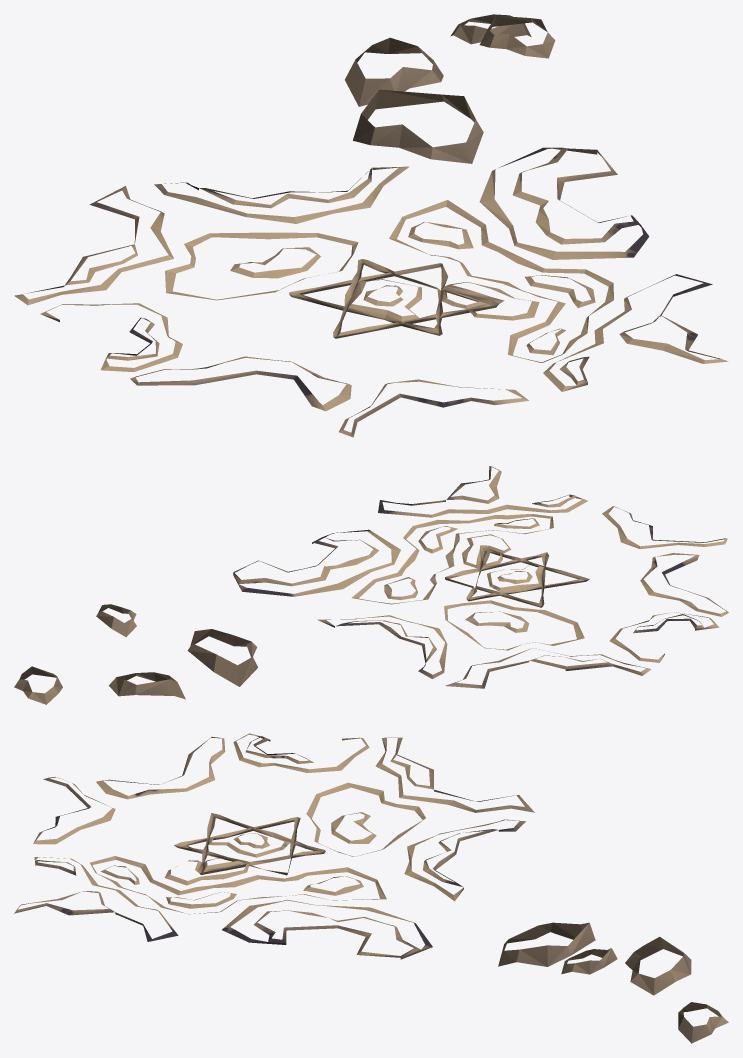
File: Ground_02.FBX
3 renders of one model, top to bottom at view 1: azimuth 30°, elevation 25°; view 2: azimuth 150°, elevation 25°; view 3: azimuth 270°, elevation 25°, orthographic. The views are drawn at different scales.
Visible parts, largest first — view 1: Ground_02; view 2: Ground_02; view 3: Ground_02.
Part boxes in pixels (bbox=[...]): Ground_02: bbox=[14, 14, 728, 437]; Ground_02: bbox=[14, 466, 728, 704]; Ground_02: bbox=[14, 733, 728, 1043].
Bounding box in the file's own units: 31.14 × 3.34 × 34.55.
